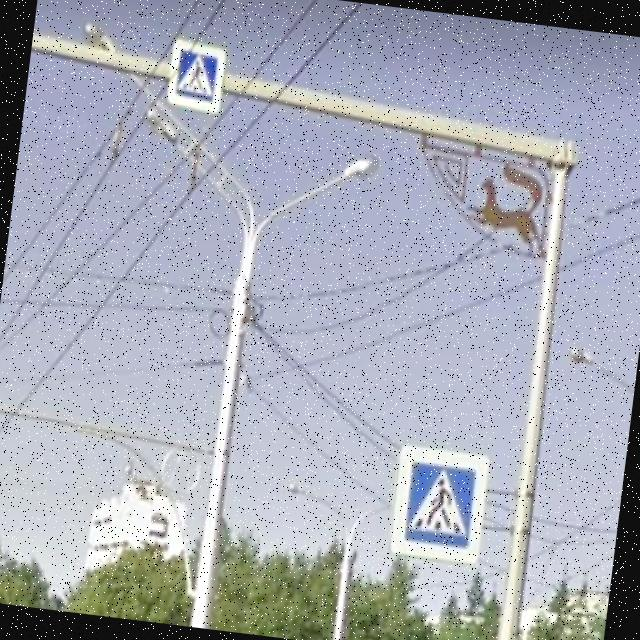Przejscie dla pieszych: (382, 436, 496, 572), (160, 33, 232, 118)
